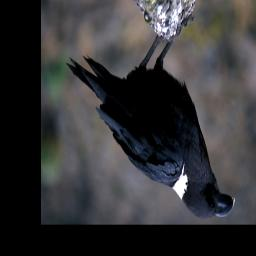Crow: (66, 11, 236, 219)
